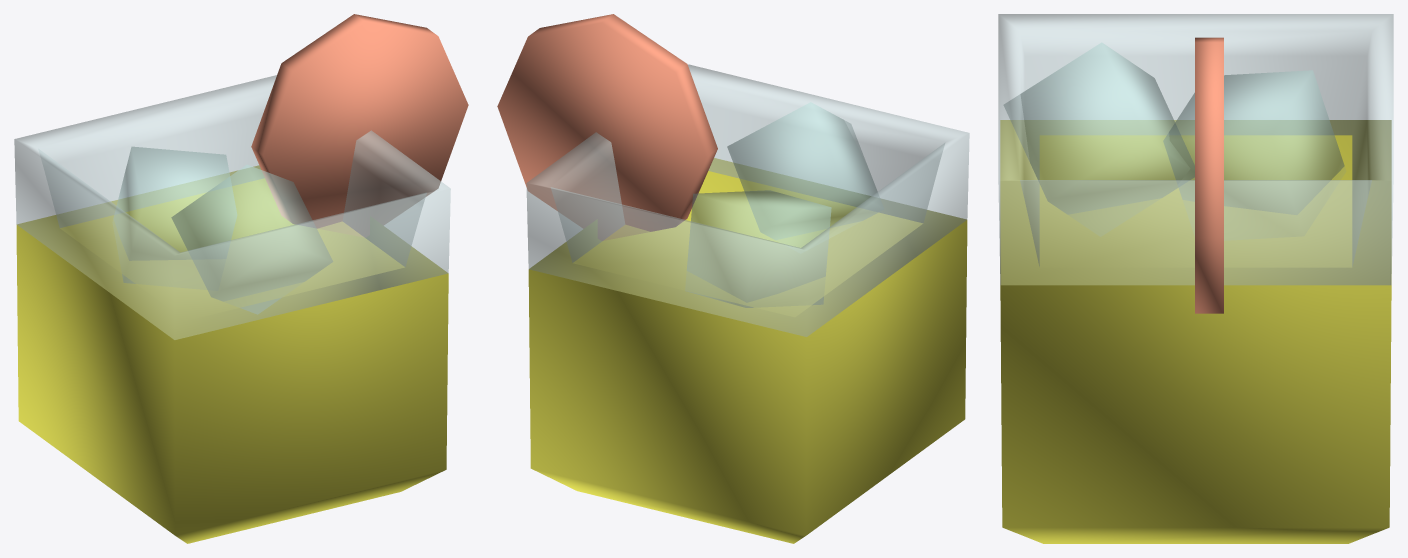
The model's file is glass_02.glb.
3 views of the same model, side by side, from view 1: azimuth 30°, elevation 25°; view 2: azimuth 150°, elevation 25°; view 3: azimuth 270°, elevation 25° (orthographic). The views are drawn at different scales.
Parts seen in each view (by area): view 1: Glass02; view 2: Glass02; view 3: Glass02.
Boxes of the visible parts, x1,y1,x2,y2 form: Glass02: (14, 14, 468, 543); Glass02: (497, 14, 969, 543); Glass02: (998, 14, 1393, 543).
Size of the model in its own units: 0.1296 by 0.1385 by 0.0959.
Materials: 2 (2 with a texture image).
